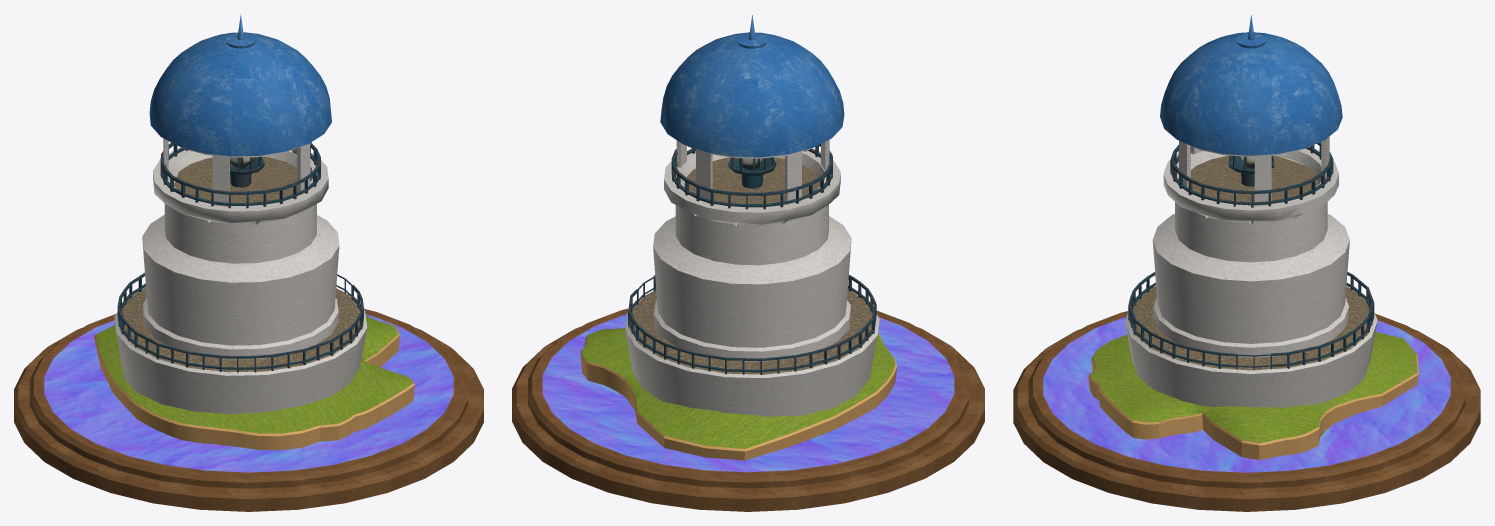
The model's file is faro.fbx.
3 views of the same model, side by side, from view 1: azimuth 30°, elevation 25°; view 2: azimuth 150°, elevation 25°; view 3: azimuth 270°, elevation 25° (orthographic).
Visible parts, largest first — view 1: node_id14, node_id23, node_id26, node_id8, node_id20, node_id17, node_id11, node_id29; view 2: node_id14, node_id23, node_id26, node_id8, node_id20, node_id17, node_id11, node_id29; view 3: node_id14, node_id23, node_id8, node_id26, node_id20, node_id17, node_id11, node_id29.
Part boxes in pixels (<box>): node_id14: <box>114,138,367,414</box>; node_id23: <box>14,309,483,511</box>; node_id26: <box>44,314,453,472</box>; node_id8: <box>149,14,331,156</box>; node_id20: <box>96,315,412,433</box>; node_id17: <box>119,156,363,372</box>; node_id11: <box>117,142,363,372</box>; node_id29: <box>94,326,414,450</box>; node_id14: <box>625,139,879,416</box>; node_id23: <box>512,308,984,511</box>; node_id26: <box>542,314,954,472</box>; node_id8: <box>660,15,844,157</box>; node_id20: <box>582,328,895,448</box>; node_id17: <box>628,157,872,374</box>; node_id11: <box>628,144,876,374</box>; node_id29: <box>580,332,897,460</box>; node_id14: <box>1125,136,1377,407</box>; node_id23: <box>1013,311,1480,511</box>; node_id8: <box>1160,15,1342,155</box>; node_id26: <box>1043,316,1450,472</box>; node_id20: <box>1090,332,1417,442</box>; node_id17: <box>1133,155,1373,370</box>; node_id11: <box>1128,142,1374,370</box>; node_id29: <box>1088,339,1418,459</box>.
Size of the model in its own units: 0.512 by 0.4762 by 0.5092.
8 materials, 8 textured.
